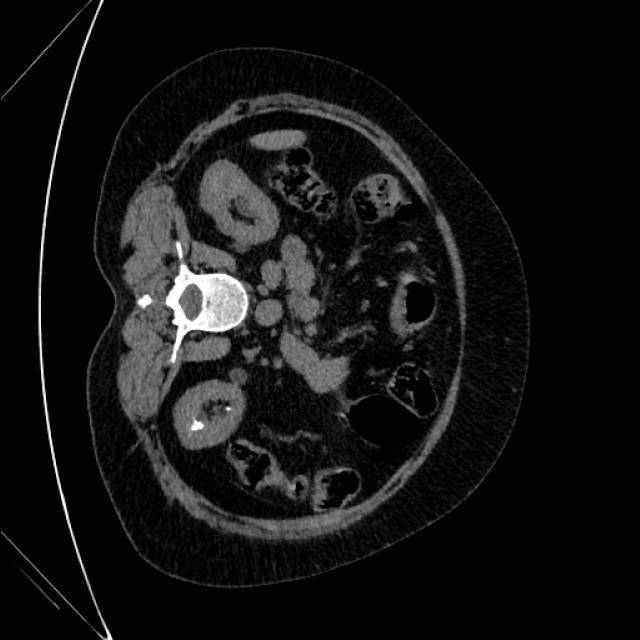kidneystone: (189, 419, 204, 430)
